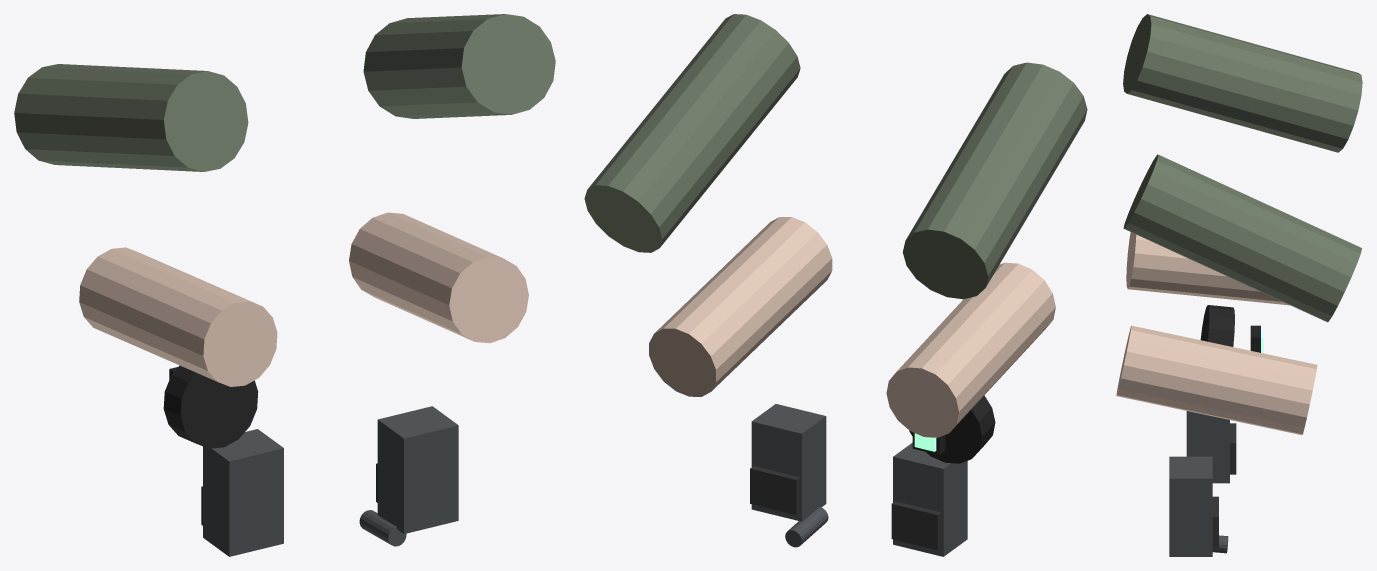
File: fps_arms.glb
3 renders of one model, left to right at view 1: azimuth 30°, elevation 25°; view 2: azimuth 150°, elevation 25°; view 3: azimuth 270°, elevation 25°, orthographic. The views are drawn at different scales.
Visible parts, largest first — view 1: FPS_Arms; view 2: FPS_Arms; view 3: FPS_Arms.
Part boxes in pixels (<box>): FPS_Arms: <box>14,14,555,556</box>; FPS_Arms: <box>584,14,1087,556</box>; FPS_Arms: <box>1116,14,1362,556</box>.
Bounding box in the file's own units: 0.4802 × 0.5703 × 0.2849.
